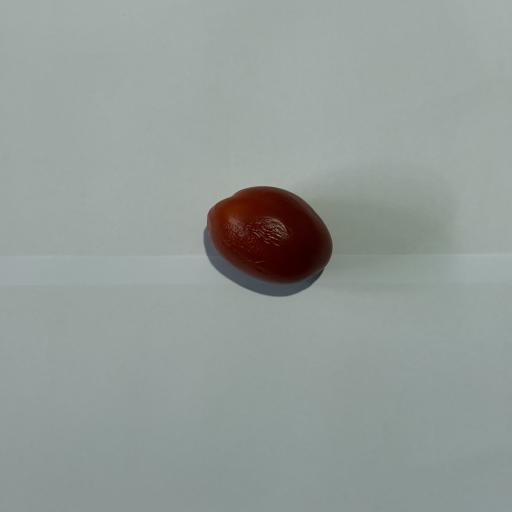spoiled: (207, 186, 332, 284)
